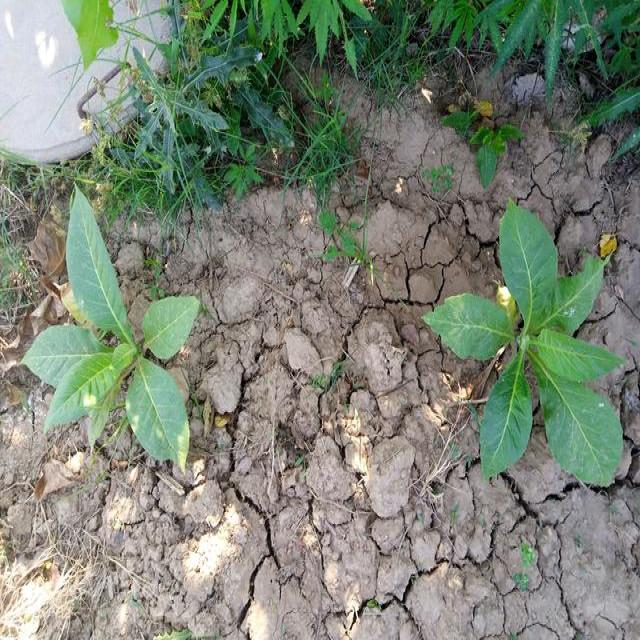crop: (30, 182, 197, 475), (449, 207, 623, 488)
